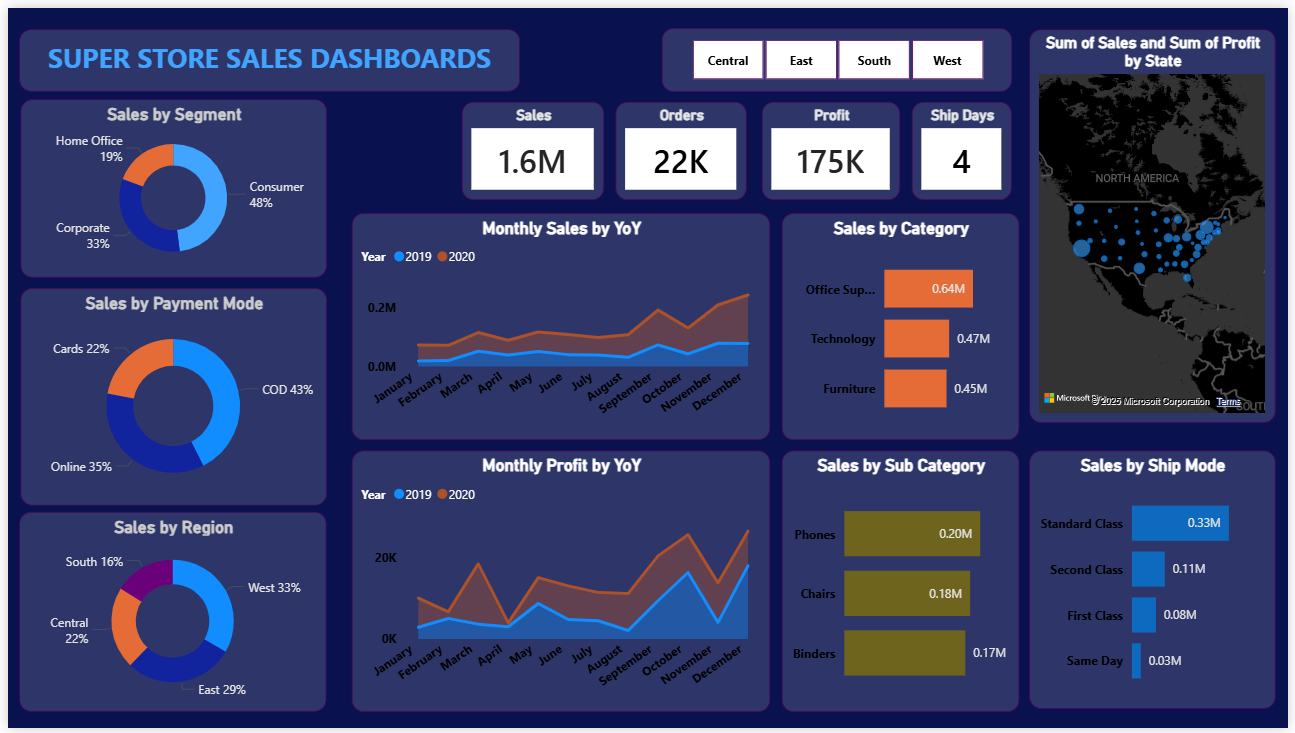

The dashboard page shown, as its layout file describes it:
{"tool":"powerbi","page":{"name":"Page 1","canvas":[1280,720],"ordinal":0},"visuals":[{"type":"clusteredBarChart","title":"Sales by Category","fields":{"Category":["SuperStore_Sales_Dataset.Category"],"Y":["Sum(SuperStore_Sales_Dataset.Sales)"]},"box":[773.3,205.1,237.7,226.8],"z":0},{"type":"clusteredBarChart","title":"Sales by Sub Category","fields":{"Category":["SuperStore_Sales_Dataset.Sub-Category"],"Y":["Sum(SuperStore_Sales_Dataset.Sales)"]},"box":[773.3,442.8,237.7,261.8],"z":1000},{"type":"clusteredBarChart","title":"Sales by Ship Mode","fields":{"Category":["SuperStore_Sales_Dataset.Ship Mode"],"Y":["Sum(SuperStore_Sales_Dataset.Sales)"]},"box":[1021.9,442.8,246.1,258.2],"z":2000},{"type":"stackedAreaChart","title":"Monthly Sales by YoY","fields":{"Y":["Sum(SuperStore_Sales_Dataset.Sales)"],"Category":["SuperStore_Sales_Dataset.Order Date.Variation.Date Hierarchy.Month","SuperStore_Sales_Dataset.Order Date.Variation.Date Hierarchy.Day"],"Series":["SuperStore_Sales_Dataset.Order Date.Variation.Date Hierarchy.Year"]},"box":[343.8,205.1,418.6,226.8],"z":3000},{"type":"stackedAreaChart","title":"Monthly Profit by YoY","fields":{"Category":["SuperStore_Sales_Dataset.Order Date.Variation.Date Hierarchy.Month","SuperStore_Sales_Dataset.Order Date.Variation.Date Hierarchy.Day"],"Series":["SuperStore_Sales_Dataset.Order Date.Variation.Date Hierarchy.Year"],"Y":["Sum(SuperStore_Sales_Dataset.Profit)"]},"box":[343.8,442.8,418.6,261.8],"z":4000},{"type":"map","fields":{"Category":["SuperStore_Sales_Dataset.State"],"Size":["Sum(SuperStore_Sales_Dataset.Sales)"]},"box":[1021.2,21.2,246.2,393.8],"z":5000},{"type":"donutChart","title":"Sales by Segment","fields":{"Category":["SuperStore_Sales_Dataset.Segment"],"Y":["Sum(SuperStore_Sales_Dataset.Sales)"]},"box":[12.5,91.2,306.2,178.8],"z":6000},{"type":"donutChart","title":"Sales by Payment Mode","fields":{"Category":["SuperStore_Sales_Dataset.Payment Mode"],"Y":["Sum(SuperStore_Sales_Dataset.Sales)"]},"box":[12.5,280,306.2,217.5],"z":7000},{"type":"slicer","fields":{"Values":["SuperStore_Sales_Dataset.Region"]},"box":[653.8,20,350,63.8],"z":8000},{"type":"textbox","box":[10.9,21.7,500.7,62.7],"z":9000},{"type":"cardVisual","title":"Sales","fields":{"Data":["Sum(SuperStore_Sales_Dataset.Sales)"]},"box":[453.8,93.8,142.5,98.8],"z":10000},{"type":"cardVisual","title":"Orders","fields":{"Data":["Sum(SuperStore_Sales_Dataset.Quantity)"]},"box":[607.5,93.8,131.2,98.8],"z":11000},{"type":"cardVisual","title":"Profit","fields":{"Data":["Sum(SuperStore_Sales_Dataset.Profit)"]},"box":[753.8,93.8,138.8,98.8],"z":12000},{"type":"cardVisual","title":"Ship Days","fields":{"Data":["Avg(SuperStore_Sales_Dataset.Avg Delivery)"]},"box":[903.8,93.8,100,98.8],"z":13000},{"type":"donutChart","title":"Sales by Region","fields":{"Category":["SuperStore_Sales_Dataset.Region"],"Y":["Sum(SuperStore_Sales_Dataset.Sales)"]},"box":[11.2,503.8,307.5,200],"z":14000}]}

Visuals, with their boxes in screenshot pixels (x1, y1, x2, y2), scaled from the page's 1280x720 canvas onto the 1295x733 screenshot:
"Sales by Category" clusteredBarChart: (782, 209, 1023, 440)
"Sales by Sub Category" clusteredBarChart: (782, 451, 1023, 717)
"Sales by Ship Mode" clusteredBarChart: (1034, 451, 1283, 714)
"Monthly Sales by YoY" stackedAreaChart: (348, 209, 771, 440)
"Monthly Profit by YoY" stackedAreaChart: (348, 451, 771, 717)
map - SuperStore_Sales_Dataset.State x Sum(SuperStore_Sales_Dataset.Sales): (1033, 22, 1282, 422)
"Sales by Segment" donutChart: (13, 93, 322, 275)
"Sales by Payment Mode" donutChart: (13, 285, 322, 506)
slicer - SuperStore_Sales_Dataset.Region: (661, 20, 1016, 85)
textbox: (11, 22, 518, 86)
"Sales" cardVisual: (459, 95, 603, 196)
"Orders" cardVisual: (615, 95, 747, 196)
"Profit" cardVisual: (763, 95, 903, 196)
"Ship Days" cardVisual: (914, 95, 1016, 196)
"Sales by Region" donutChart: (11, 513, 322, 717)
